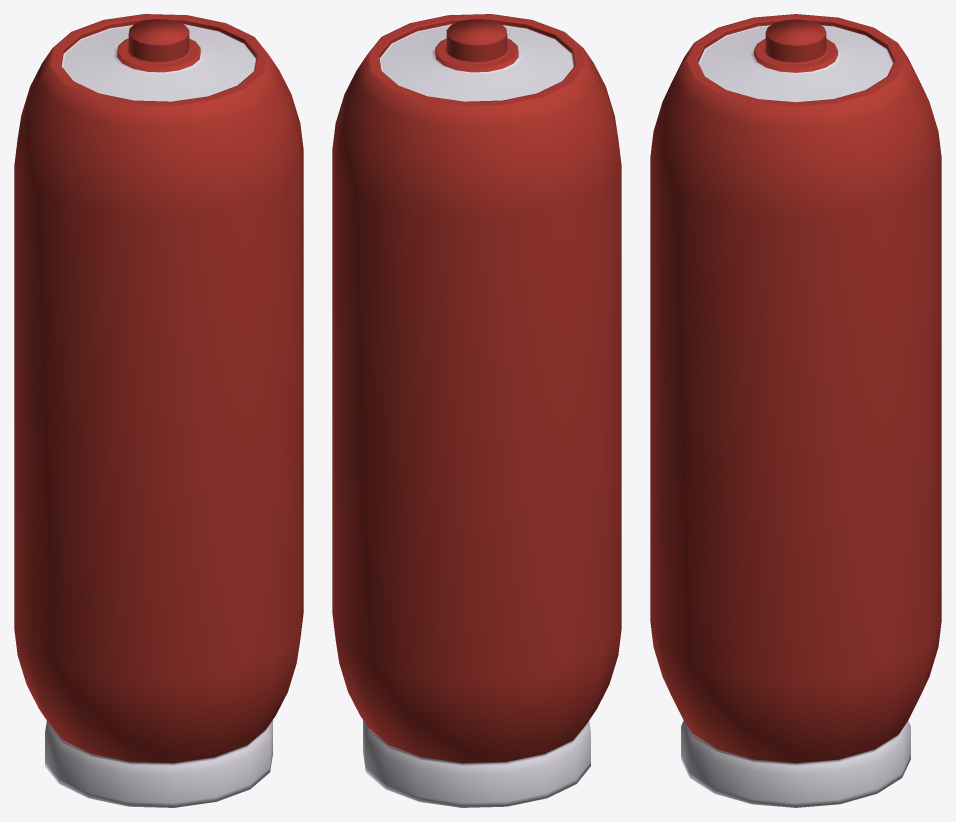
File: GasBottle_v1.gltf
3 views of the same model, side by side, from view 1: azimuth 30°, elevation 25°; view 2: azimuth 150°, elevation 25°; view 3: azimuth 270°, elevation 25° (orthographic).
Parts seen in each view (by area): view 1: GasBottle_v1; view 2: GasBottle_v1; view 3: GasBottle_v1.
Boxes of the visible parts, x1,y1,x2,y2 form: GasBottle_v1: [14, 14, 303, 807]; GasBottle_v1: [332, 14, 621, 807]; GasBottle_v1: [650, 14, 941, 807].
Size of the model in its own units: 0.2762 by 0.76 by 0.2762.
